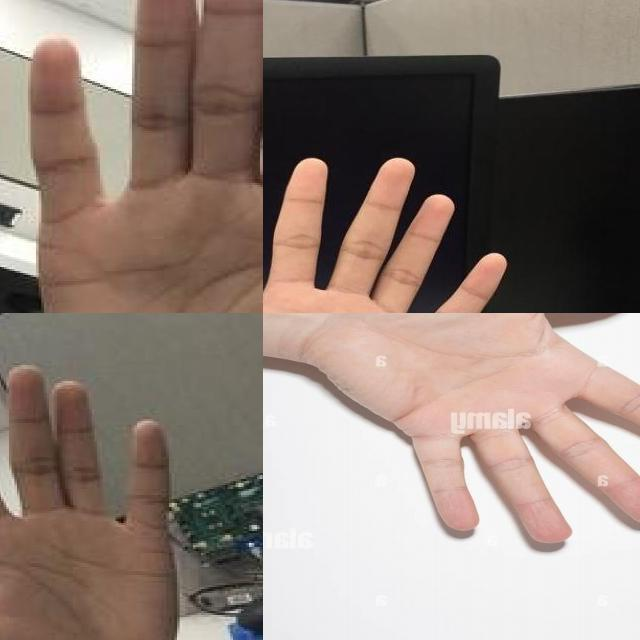hand: (298, 313, 640, 547), (20, 0, 263, 313), (0, 363, 180, 640), (263, 152, 510, 313)
